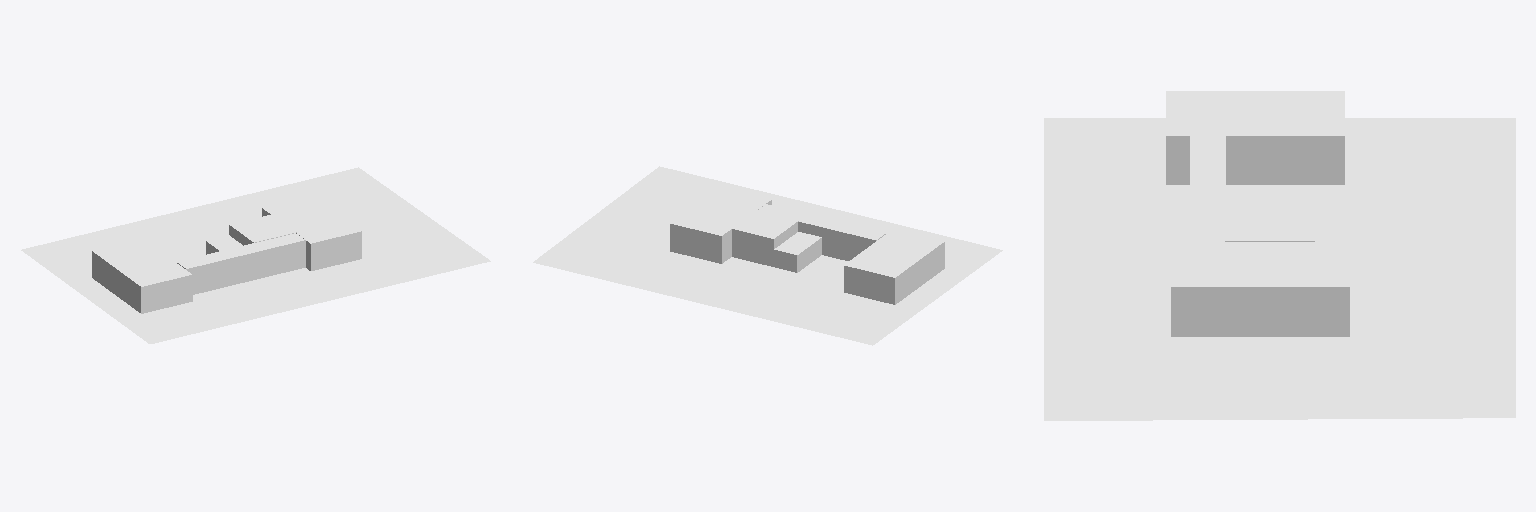
The robot description file, URDF, robot "stair_bauzil":
<robot name="stair_bauzil">
  <link name="base_link">
    <visual>
      <origin xyz="0 0 0" rpy="0 0 0" />
      <geometry>
        <mesh filename="package://hpp-rbprm-corba/meshes/floor_bauzil.stl"/>
      </geometry>
      <material name="white">
        <color rgba="1 1 1 1"/>
      </material>
    </visual>
    <collision>
      <origin xyz="0 0 0" rpy="0 0 0" />
      <geometry>
        <mesh filename="package://hpp-rbprm-corba/meshes/floor_bauzil.stl"/>
      </geometry>
    </collision>
  </link>
</robot>

--- What the picture shows (computed from the rendered views, not written in the file) ---
3 views of the same robot in one strip: view 1: azimuth 30°, elevation 25°; view 2: azimuth 150°, elevation 25°; view 3: azimuth 270°, elevation 25° (orthographic).
Robot: stair_bauzil — 1 links, 0 joints (none); root link base_link; default pose: every joint at zero.
Visible links, largest first — view 1: base_link; view 2: base_link; view 3: base_link.
Link boxes in pixels (x1=…): base_link: x1=21, y1=167, x2=490, y2=343; base_link: x1=533, y1=166, x2=1002, y2=345; base_link: x1=1044, y1=91, x2=1515, y2=420.
Size in the robot's own frame: 8 by 5.25 by 0.6559 metres.
1 mesh visuals loaded from 1 distinct referenced files (1 binary STL).